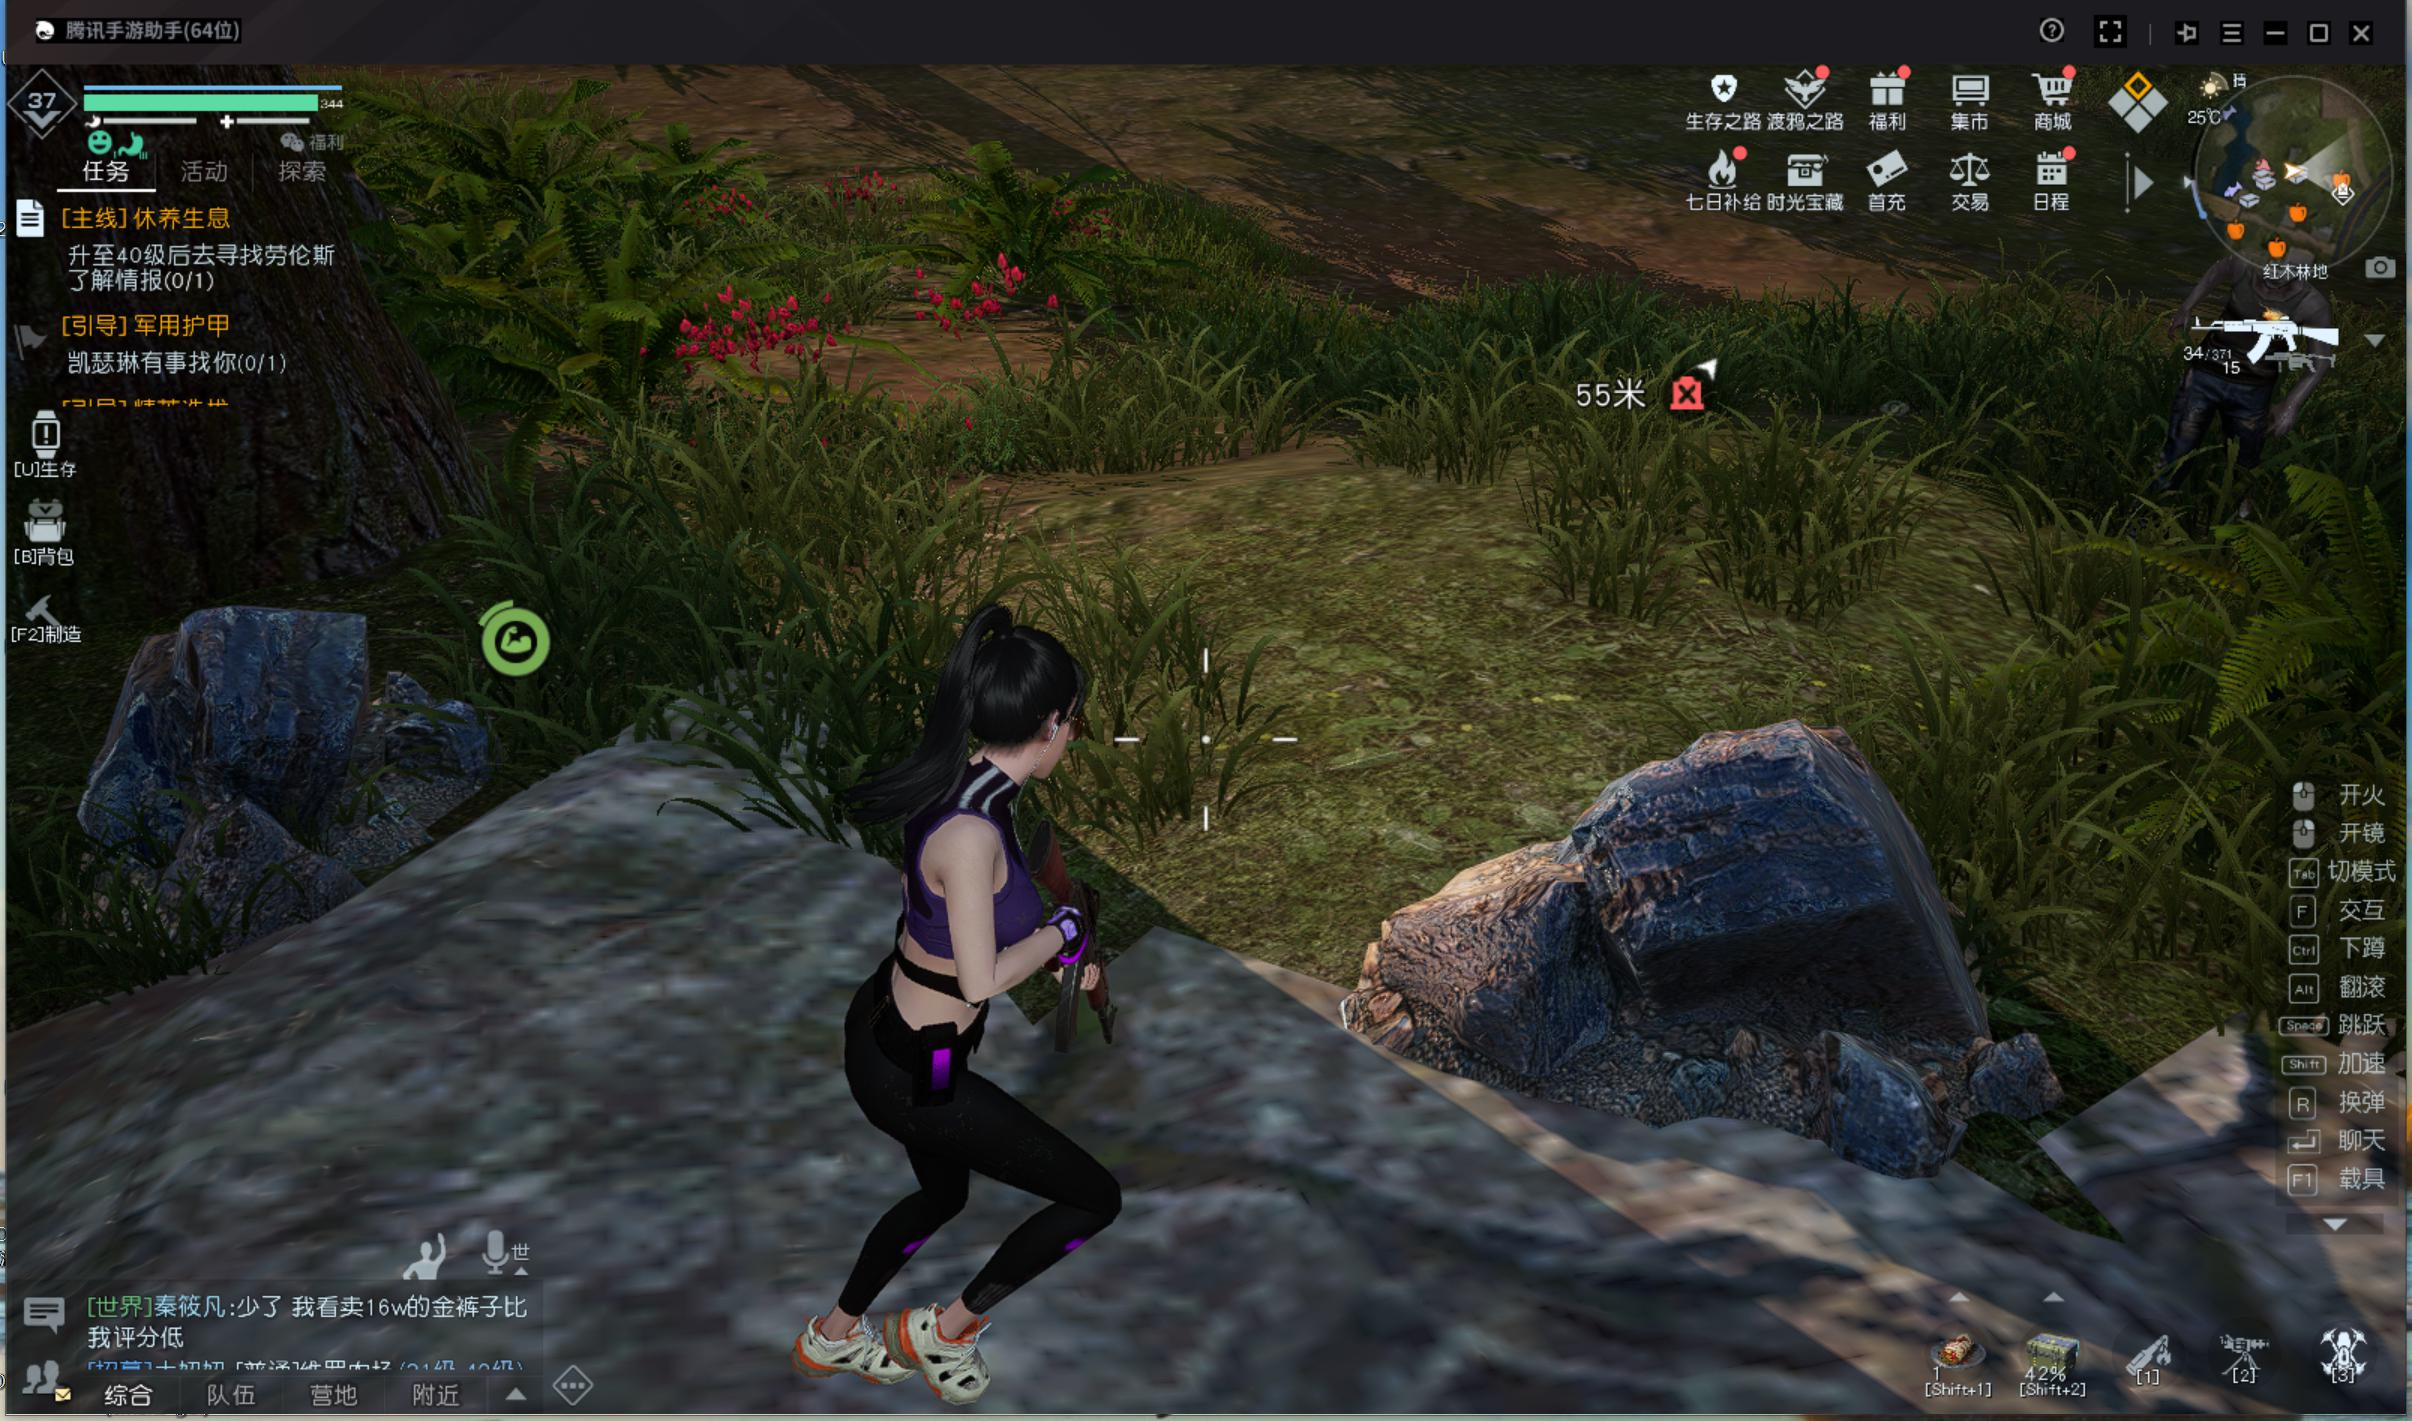stone: (1372, 585, 1979, 1155), (78, 582, 673, 964)
